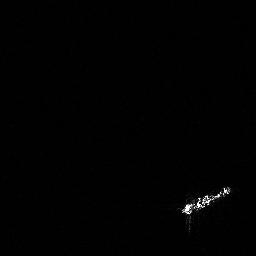ship: (176, 181, 233, 217)
